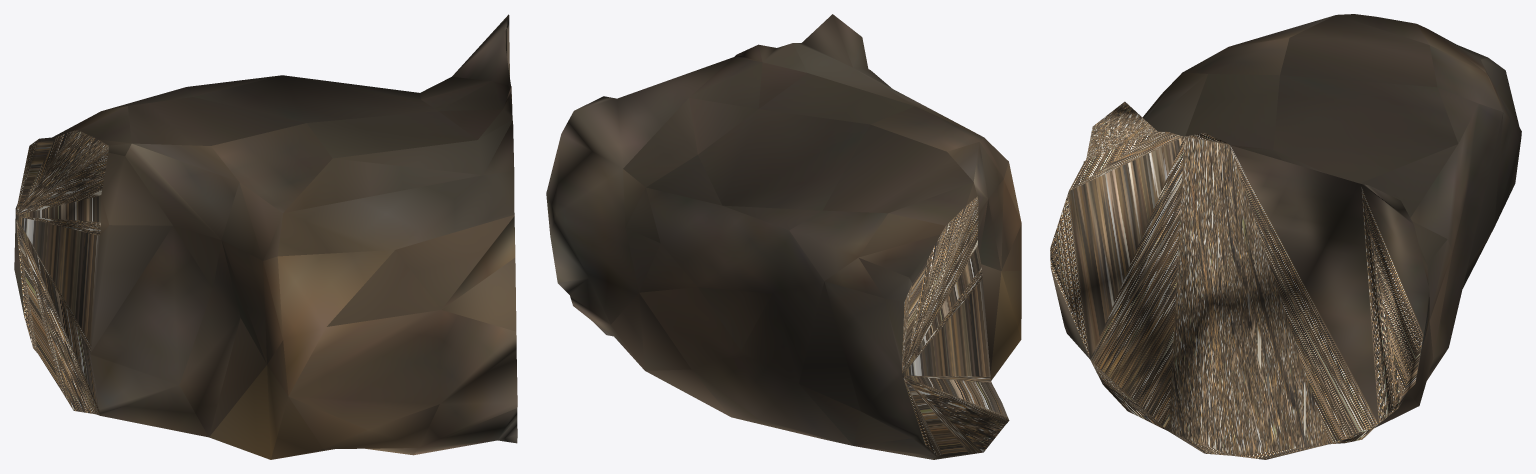
File: Sungaya_inexpectata_31mg.009.obj
The picture shows the model from 3 angles, left to right: view 1: azimuth 30°, elevation 25°; view 2: azimuth 150°, elevation 25°; view 3: azimuth 270°, elevation 25°; orthographic projection. The views are drawn at different scales.
Visible parts, largest first — view 1: 21-m-l-coxa_Sungaya_inexpectata_31mg.009; view 2: 21-m-l-coxa_Sungaya_inexpectata_31mg.009; view 3: 21-m-l-coxa_Sungaya_inexpectata_31mg.009.
Boxes of the visible parts, x1,y1,x2,y2 form: 21-m-l-coxa_Sungaya_inexpectata_31mg.009: (14, 14, 517, 459); 21-m-l-coxa_Sungaya_inexpectata_31mg.009: (546, 14, 1021, 459); 21-m-l-coxa_Sungaya_inexpectata_31mg.009: (1050, 14, 1521, 459).
Size of the model in its own units: 0.000843 by 0.000628 by 0.000788.
1 material, 1 textured.
